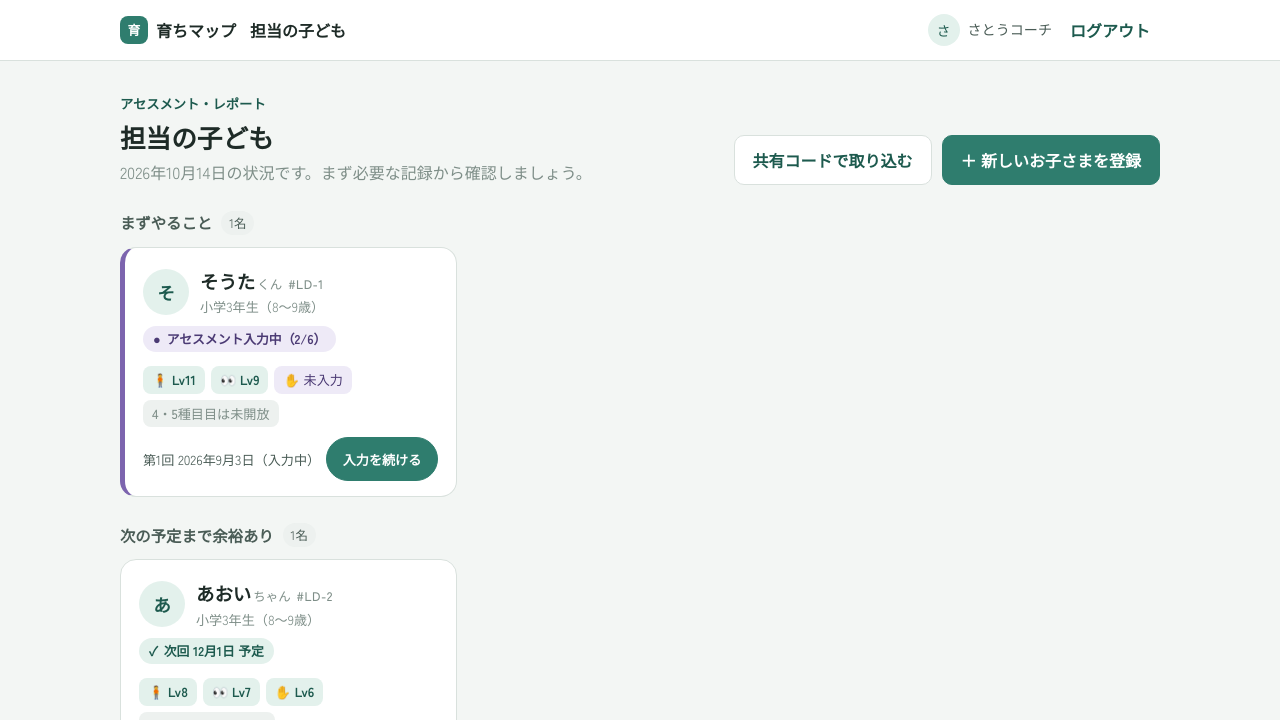
Test: 担当の子ども一覧 › 共有コードを入力しやすい形式に整えて取り込む
Check: the link "そうた" is shown, box [200,268,282,294]
Click the button "共有コードで取り込む": click(832, 160) [734,135,932,185]
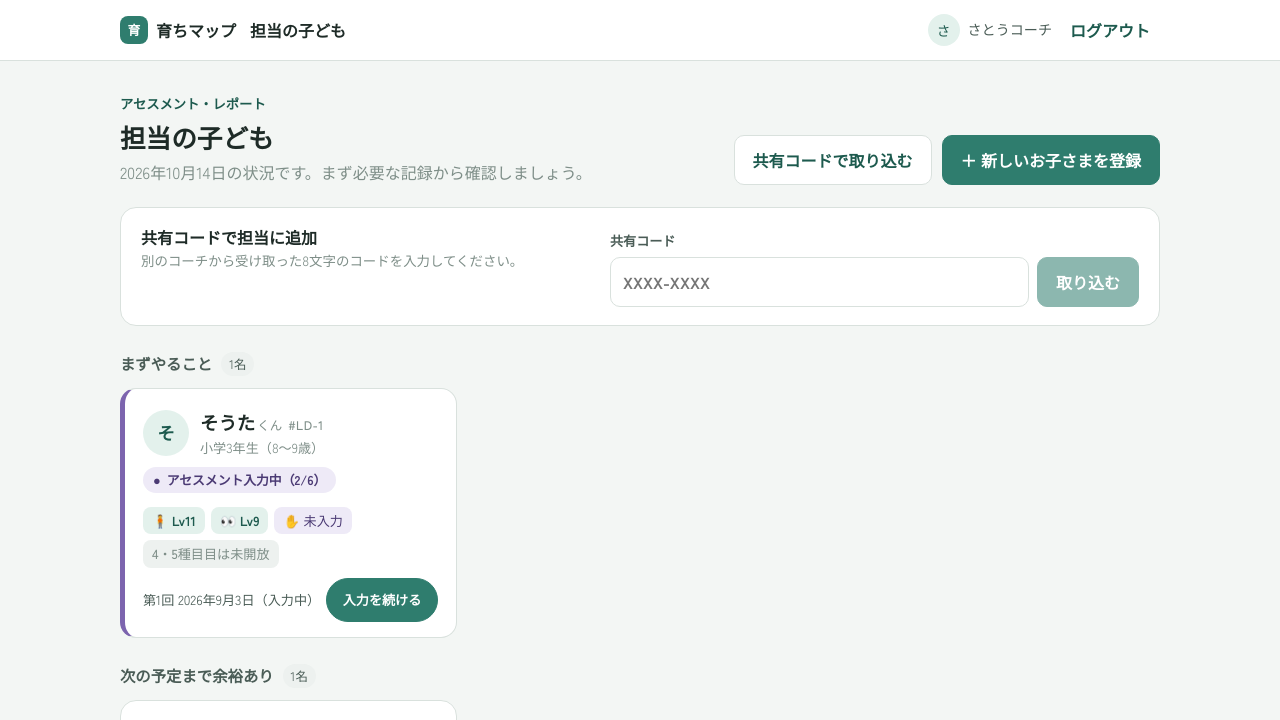
In the field labelled "共有コード": (819, 282) [610,256,1029,307], type "abcd efgh"
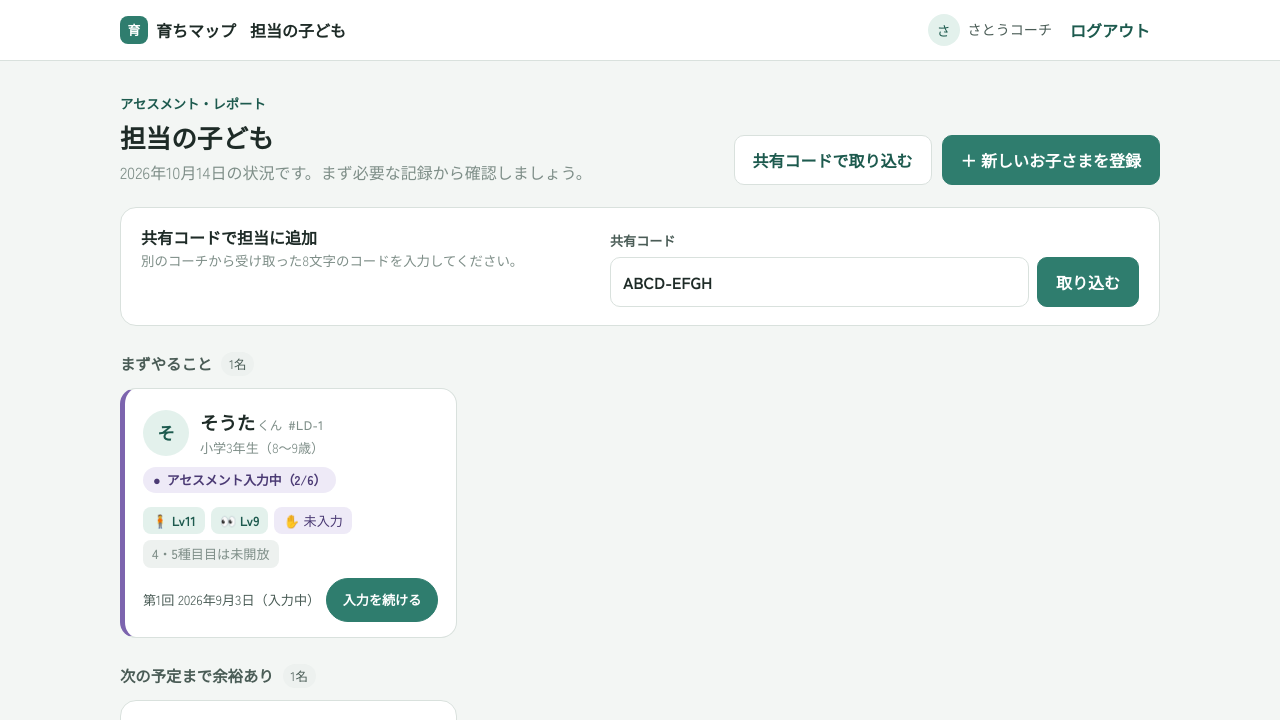
Check: the field labelled "共有コード" holds "ABCD-EFGH", box [610,256,1029,307]
Click the button "取り込む": click(1088, 282) [1037,256,1139,307]
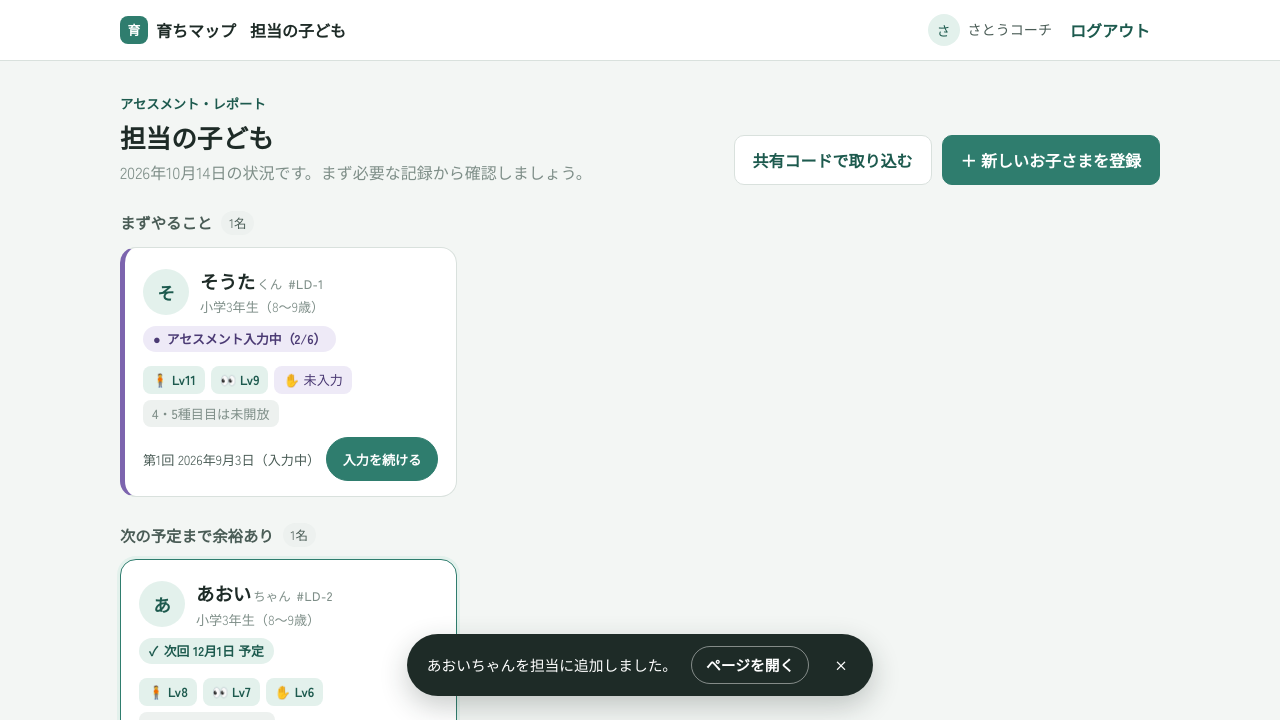
Check: the message shows "あおいちゃんを担当に追加しました", box [427,654,677,675]
